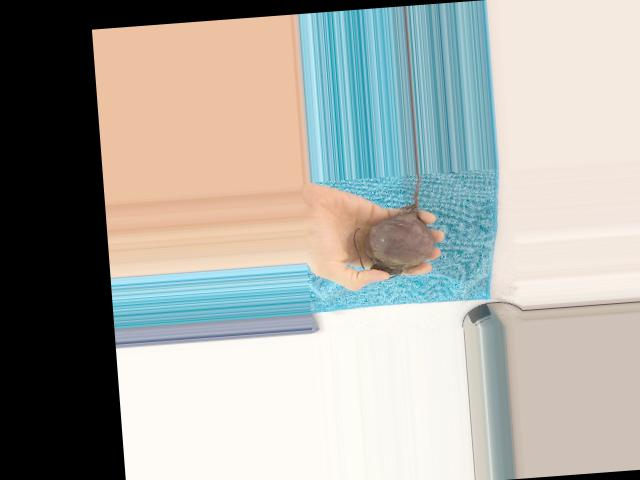beet: (349, 172, 437, 281)
